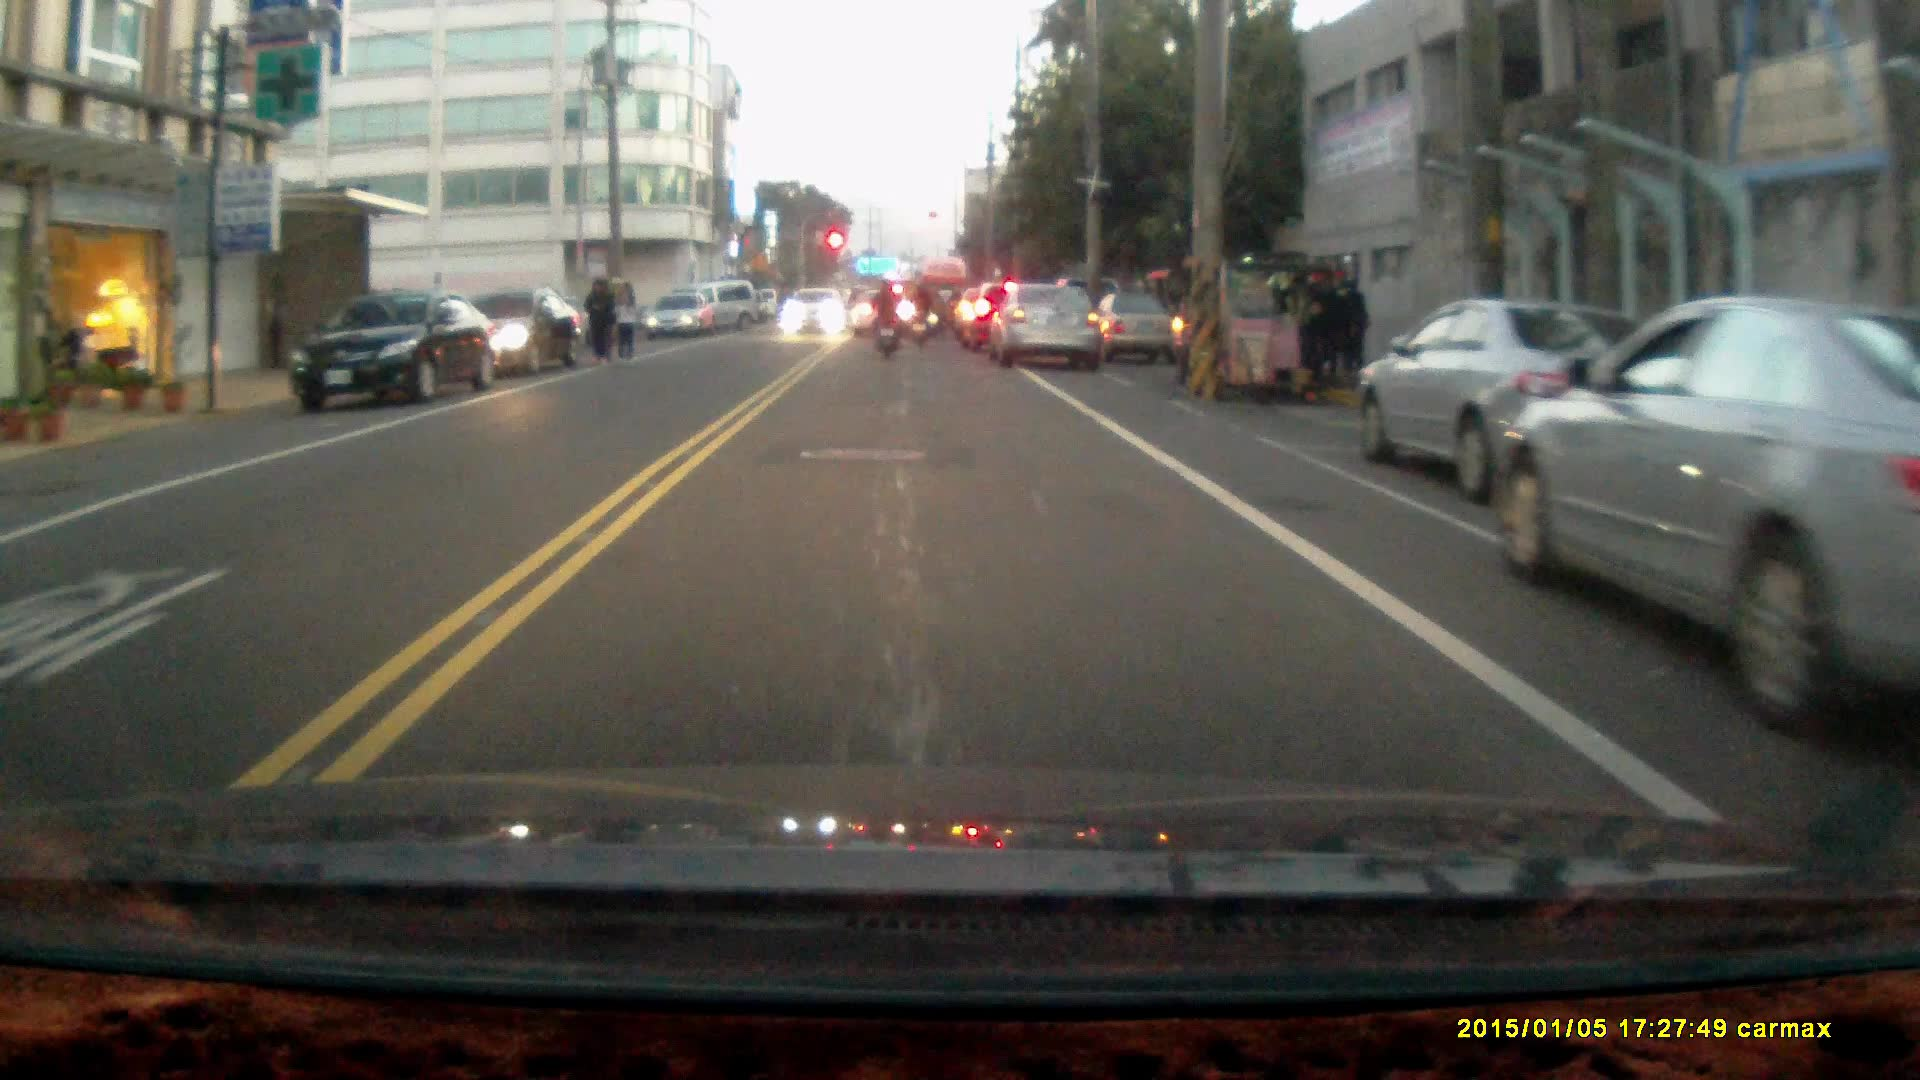pedestrian: (1334, 276, 1372, 383), (580, 276, 615, 369), (613, 276, 639, 364)
rider: (868, 280, 902, 362), (903, 281, 932, 347)
vehicle: (1498, 291, 1920, 764), (1352, 297, 1697, 504), (282, 287, 504, 413), (1166, 260, 1352, 408), (465, 287, 590, 375), (992, 283, 1106, 372), (647, 293, 721, 344), (782, 289, 851, 340)
